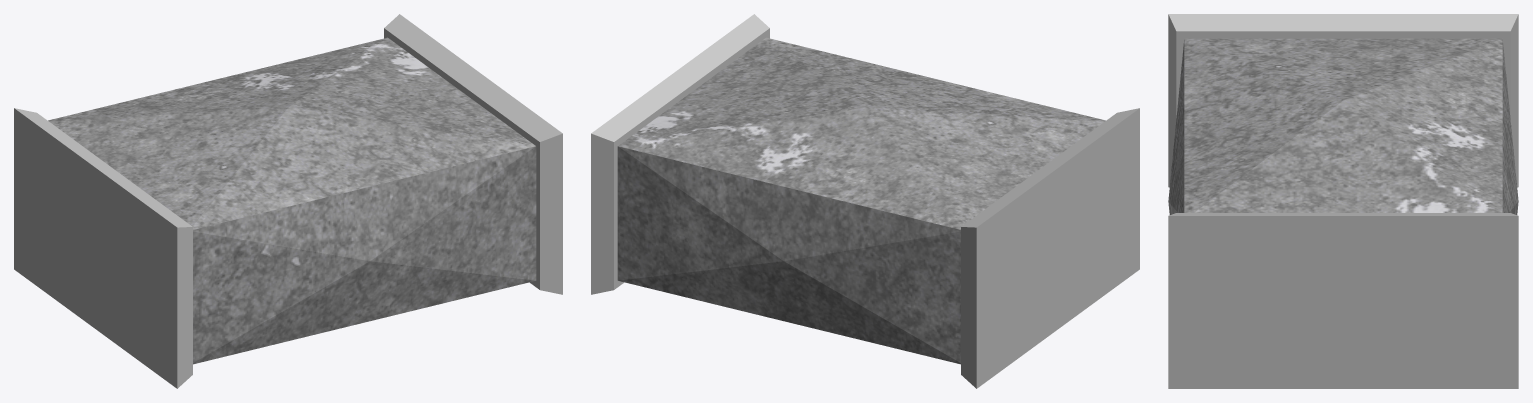
File: Pipes1Straight.fbx
The picture shows the model from 3 angles, left to right: view 1: azimuth 30°, elevation 25°; view 2: azimuth 150°, elevation 25°; view 3: azimuth 270°, elevation 25°; orthographic projection. The views are drawn at different scales.
Parts seen in each view (by area): view 1: Pipe1Straight; view 2: Pipe1Straight; view 3: Pipe1Straight.
Boxes of the visible parts, <box> form: Pipe1Straight: <box>14,14,562,388</box>; Pipe1Straight: <box>591,14,1139,388</box>; Pipe1Straight: <box>1168,14,1518,388</box>.
Bounding box in the file's own units: 1.5 × 0.7 × 1.1.
